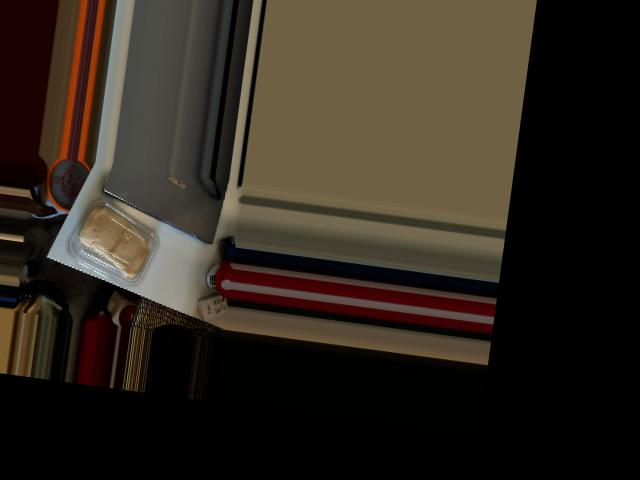cheese: (56, 193, 167, 290)
